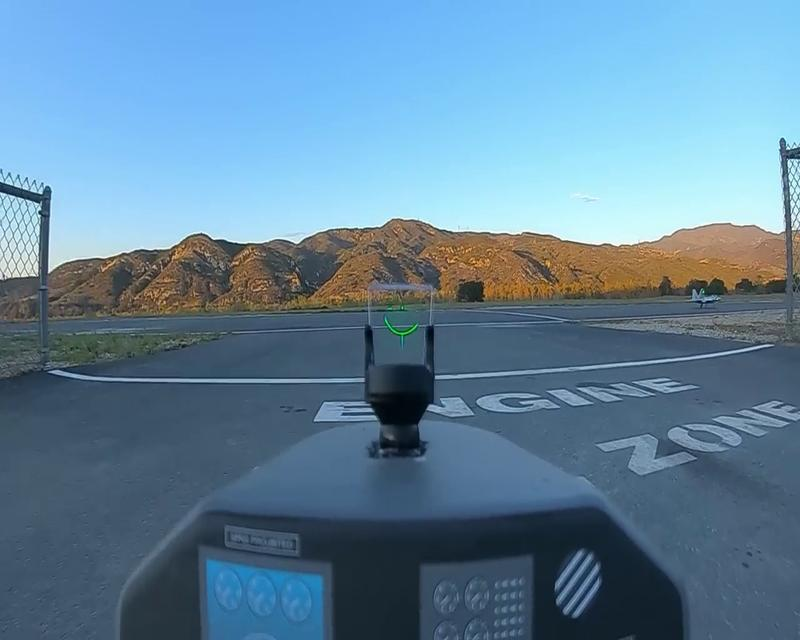UAV: (685, 286, 722, 309)
